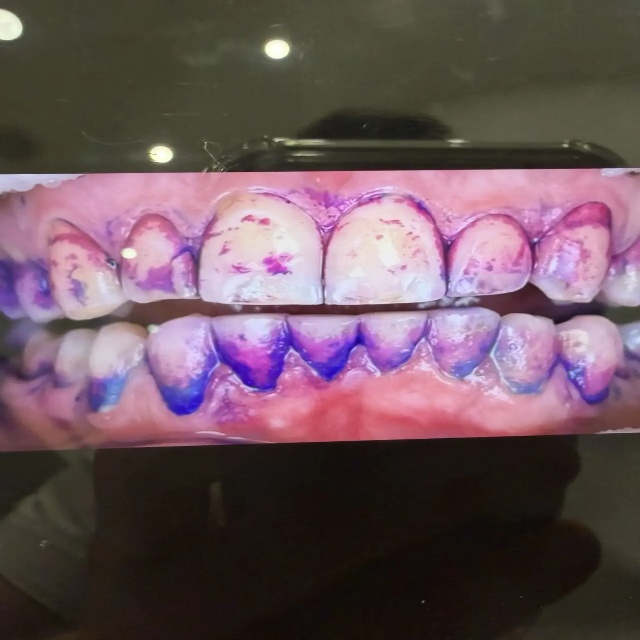plaque: (0, 185, 500, 427), (422, 173, 571, 294), (0, 329, 130, 414), (254, 183, 377, 260), (577, 199, 640, 349), (510, 351, 640, 416)
